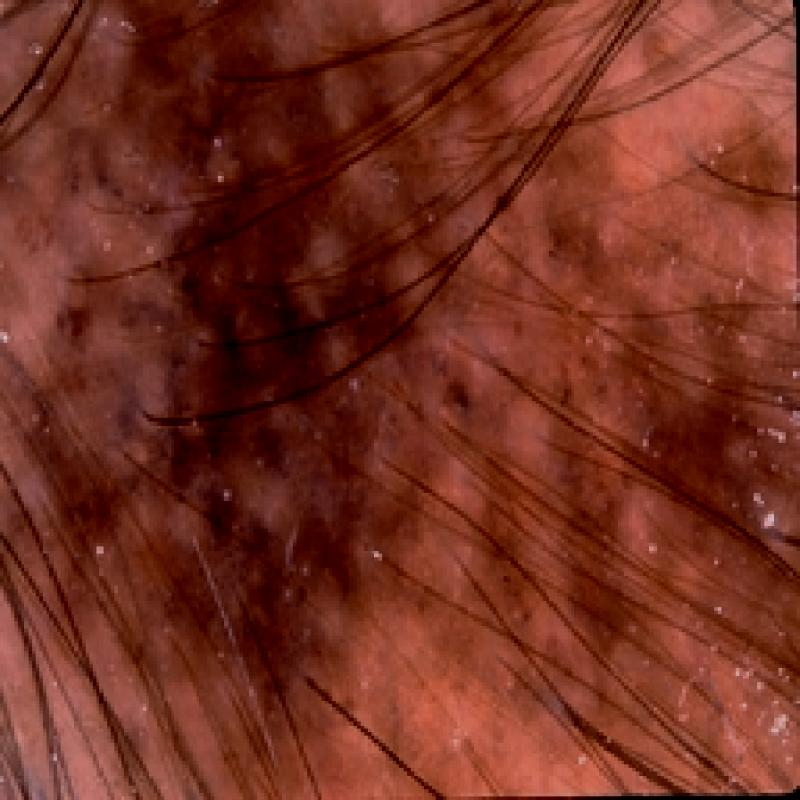malignant: (79, 7, 545, 713)
